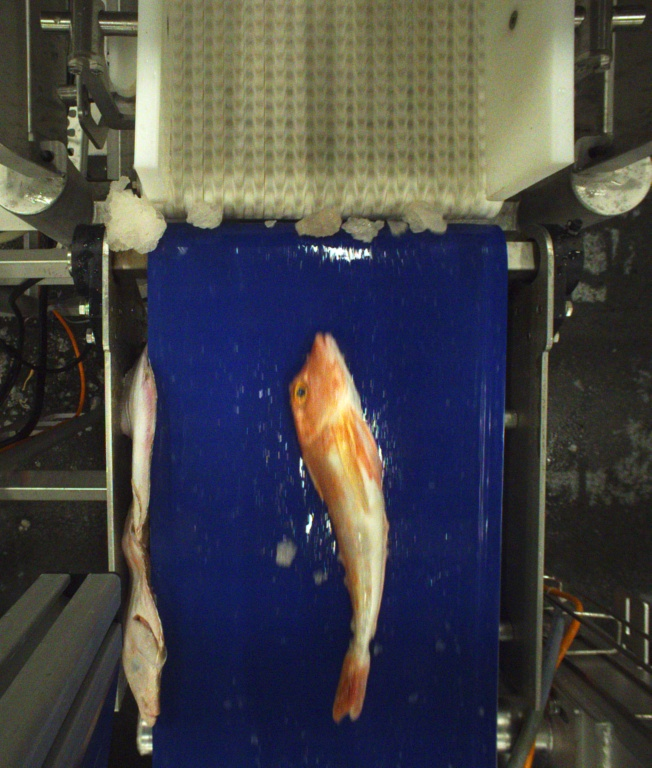GUU: (285, 331, 389, 723)
